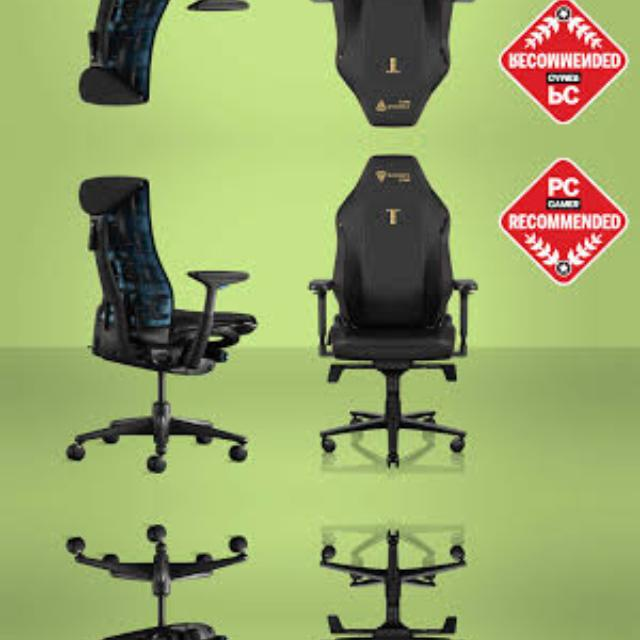obstacle: (42, 159, 284, 487), (303, 147, 502, 477), (42, 510, 284, 640), (42, 0, 284, 121), (302, 0, 501, 133), (302, 519, 501, 640)
